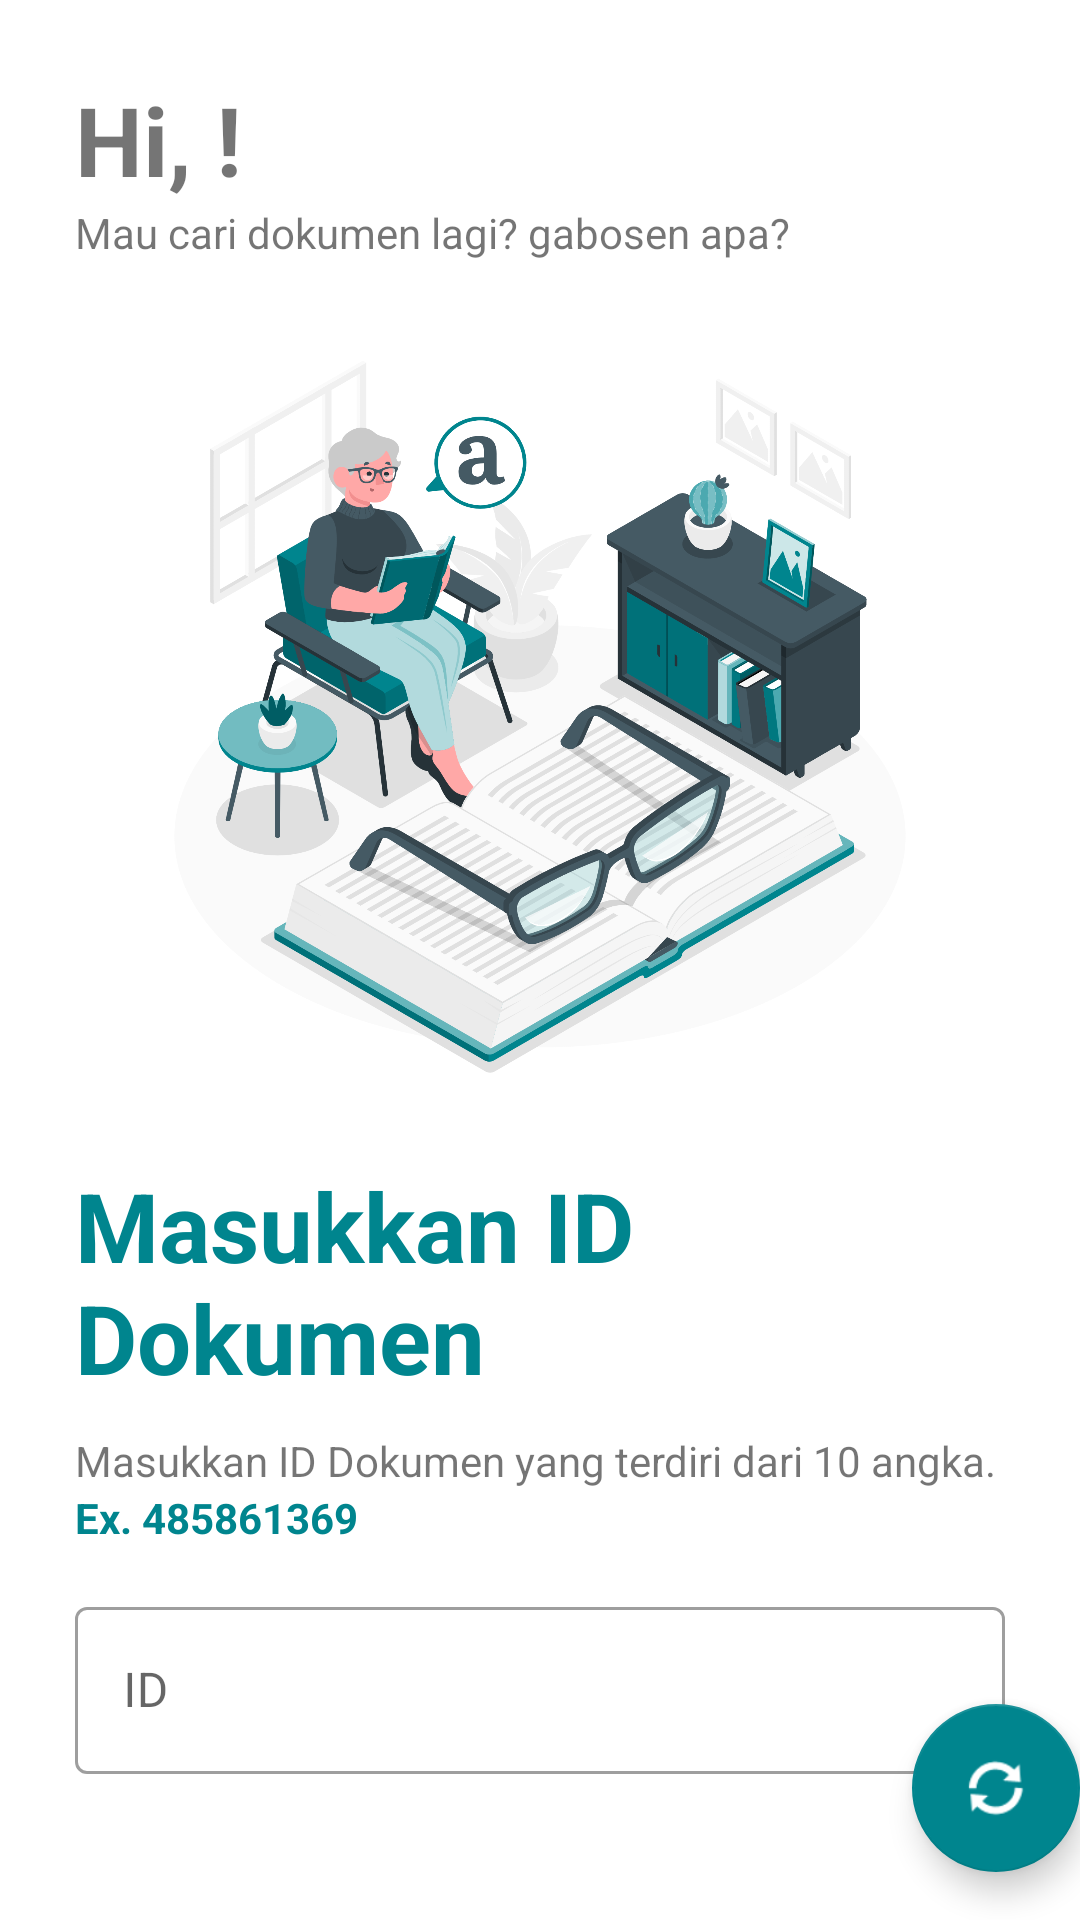

Icon click points for this 1080w x 1920h phone screenshot, format point (x, y):
popup sync: point (996, 1788)
